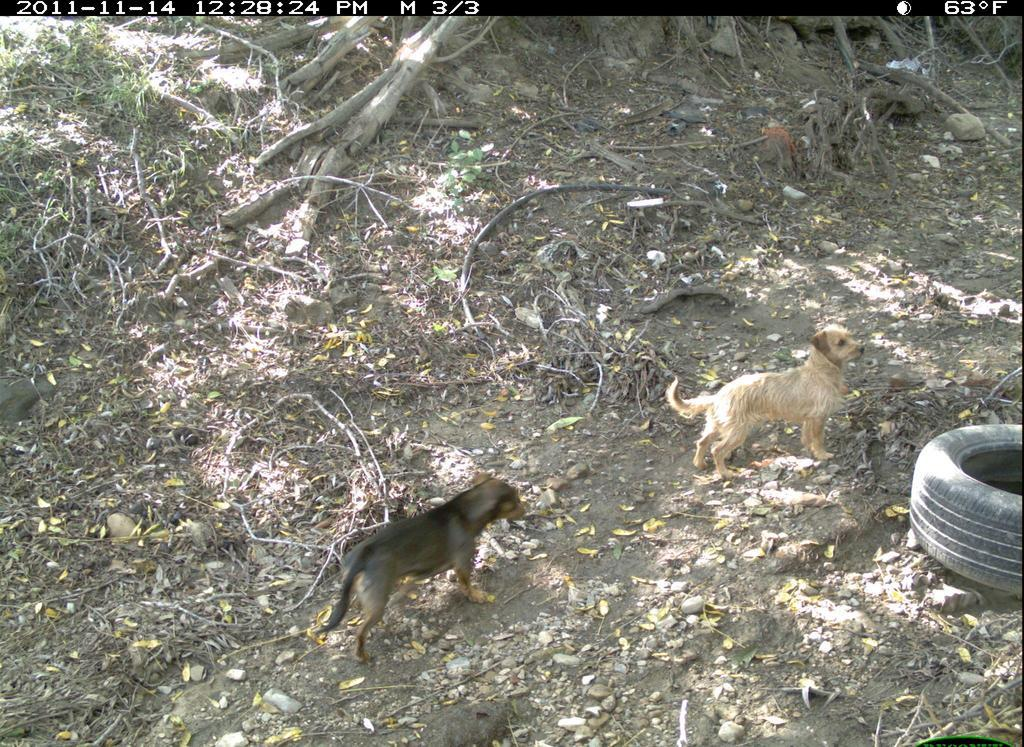dog: (306, 441, 534, 660), (657, 319, 877, 477)
